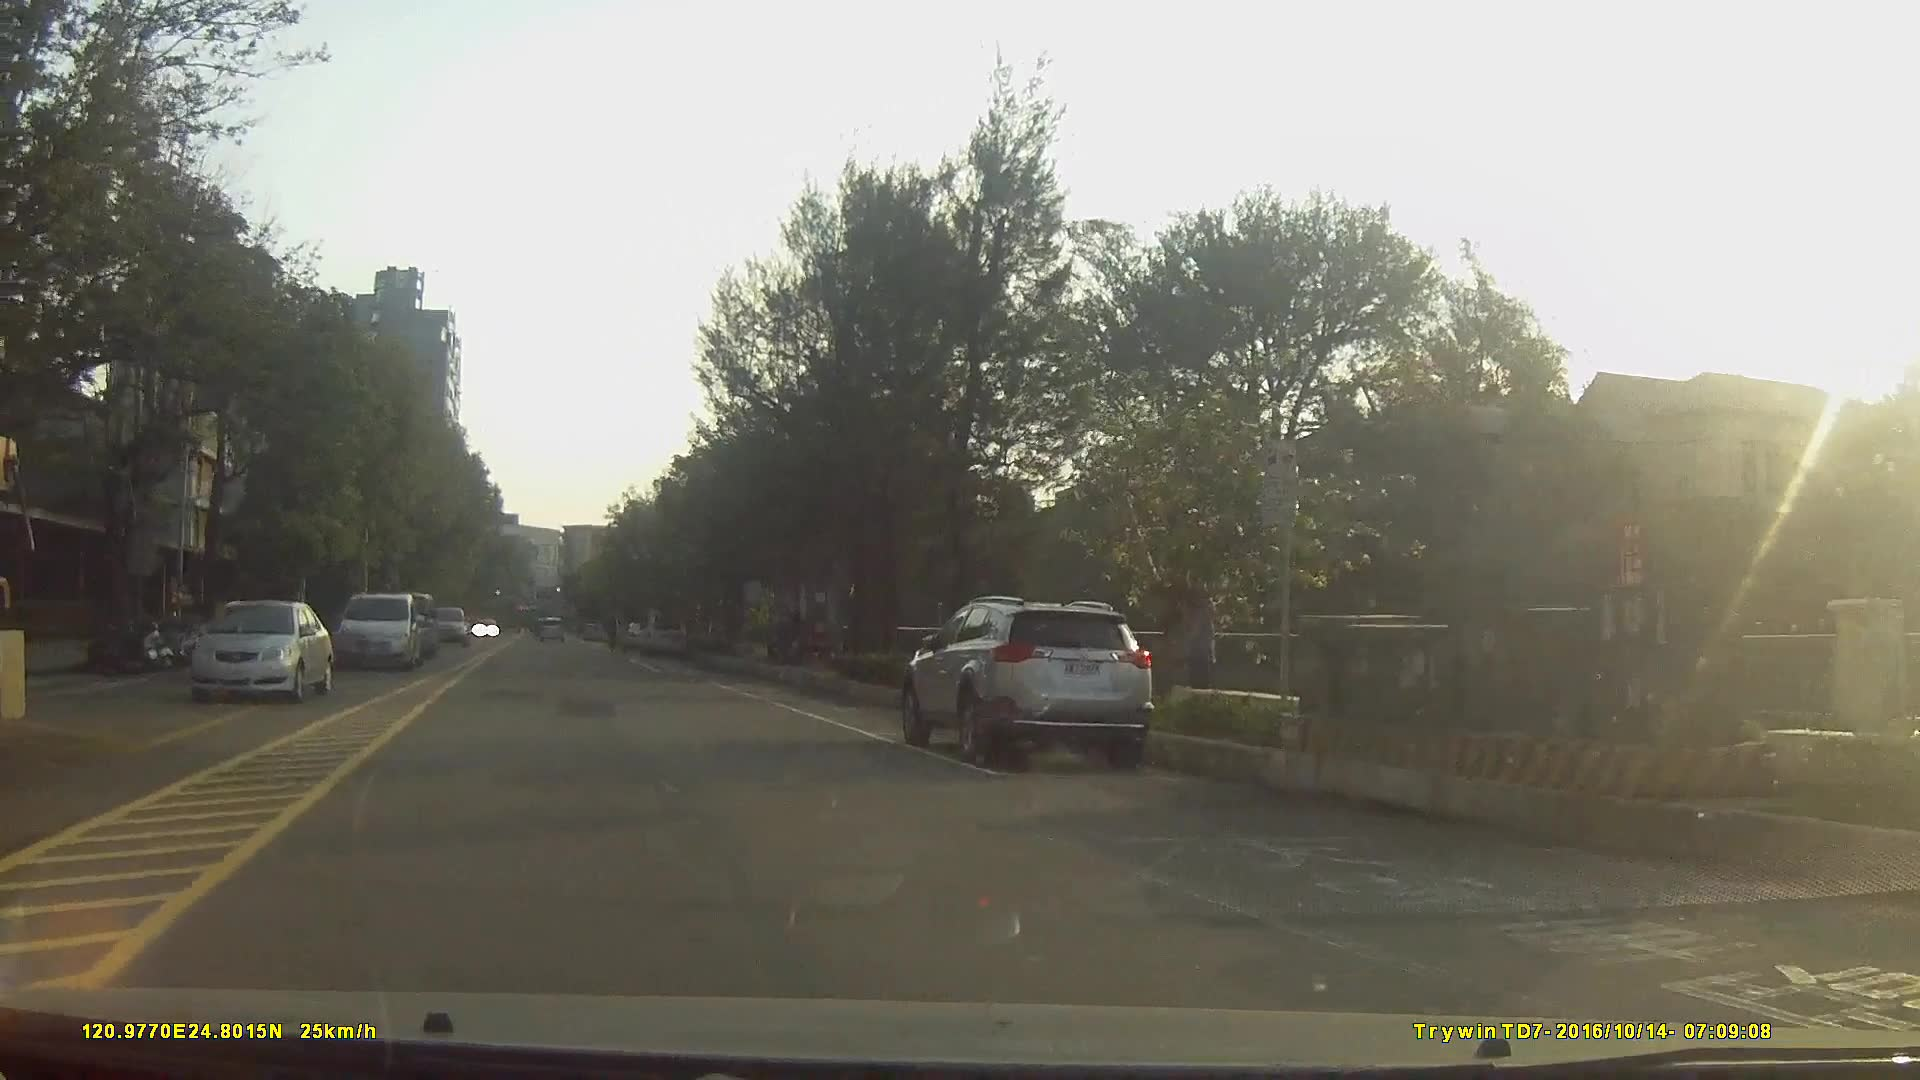vehicle: (905, 593, 1154, 773), (189, 599, 334, 702), (338, 591, 425, 671), (640, 611, 688, 657), (425, 607, 469, 645), (620, 618, 655, 653)
